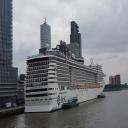cruises: (23, 40, 108, 115)
